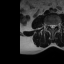CCS_normal: (51, 22, 53, 31)
LFS_normal: (55, 23, 57, 28)
LLS_normal: (53, 23, 55, 29)
RFS_stenosis: (47, 22, 50, 28)
RLS_normal: (49, 23, 51, 29)
